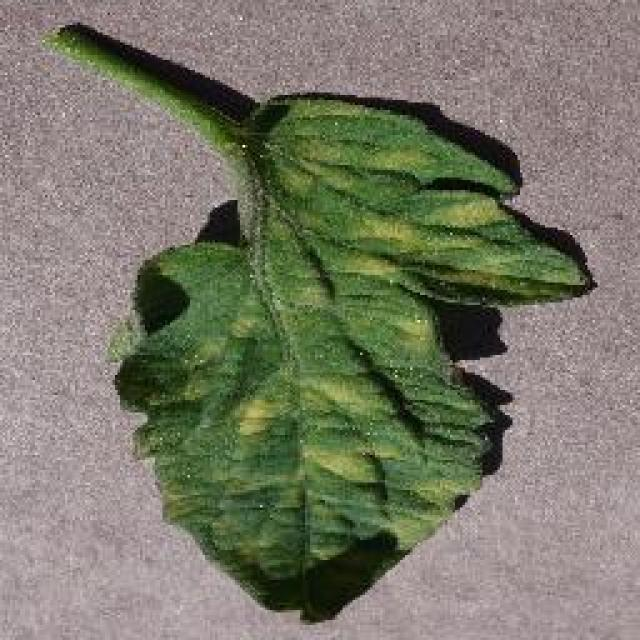leaf mold: (65, 22, 599, 622)
